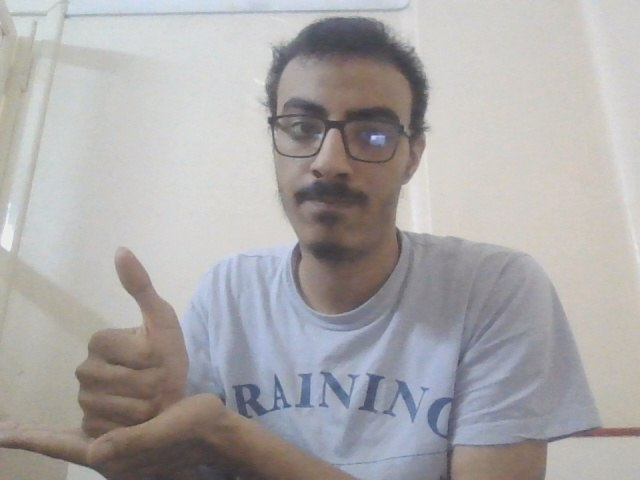Help: (1, 245, 227, 480)
